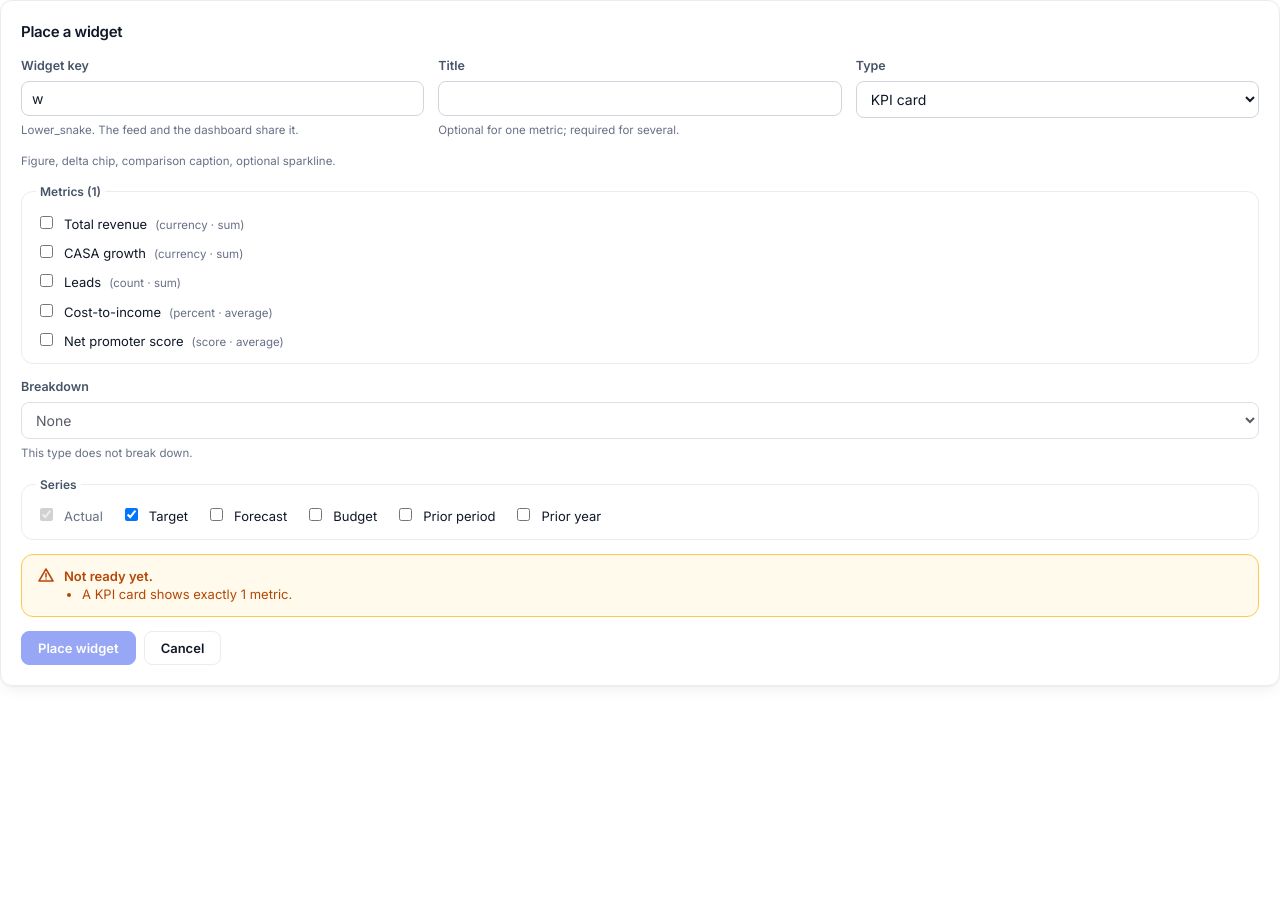
Test: the widget form › switching to a breakdown type enables the dimension and blocks submit until one is chosen
Select "Bar" in the dropdown labelled "Type" at (1057, 99), box [856,81,1259,118]
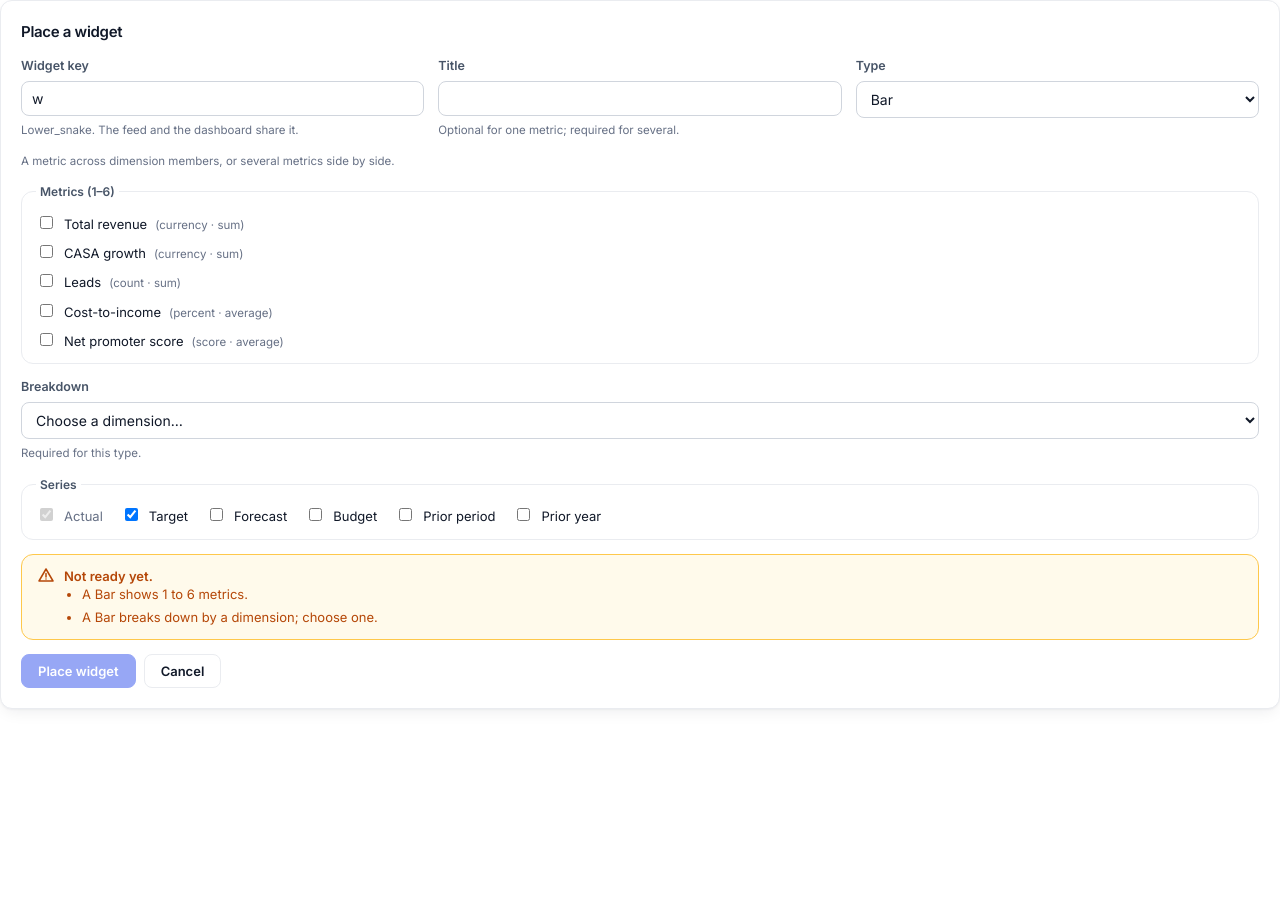
Check: the button "Place widget" is disabled, box [21,654,136,688]
Check: the dropdown labelled "Breakdown" is enabled
Check: the list item "A Bar breaks down by a dimension; choose one." is shown, box [82,609,378,625]
Select "Region" in the dropdown labelled "Breakdown" at (640, 421), box [21,402,1259,439]
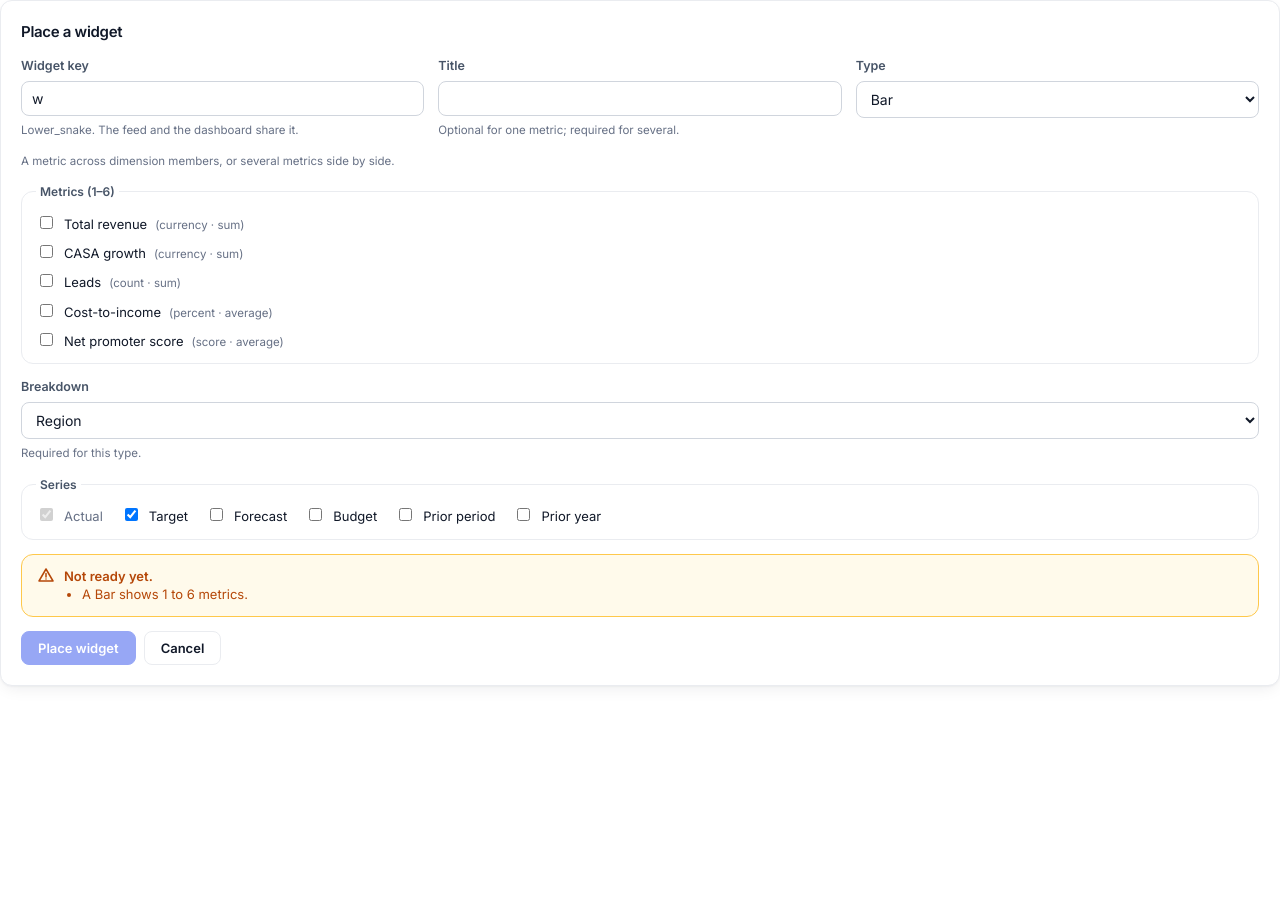
Check: the list item "A Bar breaks down by a dimension; choose one." is gone
